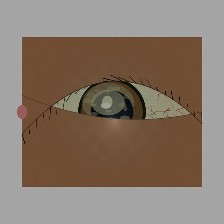corneal_ulcer: (81, 81, 135, 124)
